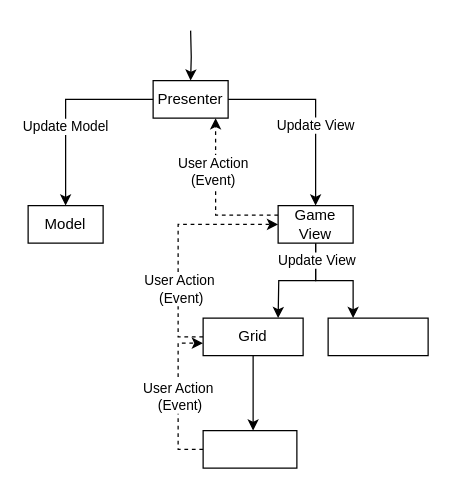
Image size: 450x490. Some labels were removed from this diagram. Each missing label, with the box of its shape:
Cells[,]: (202, 429, 297, 468)
UI: (327, 317, 428, 356)
